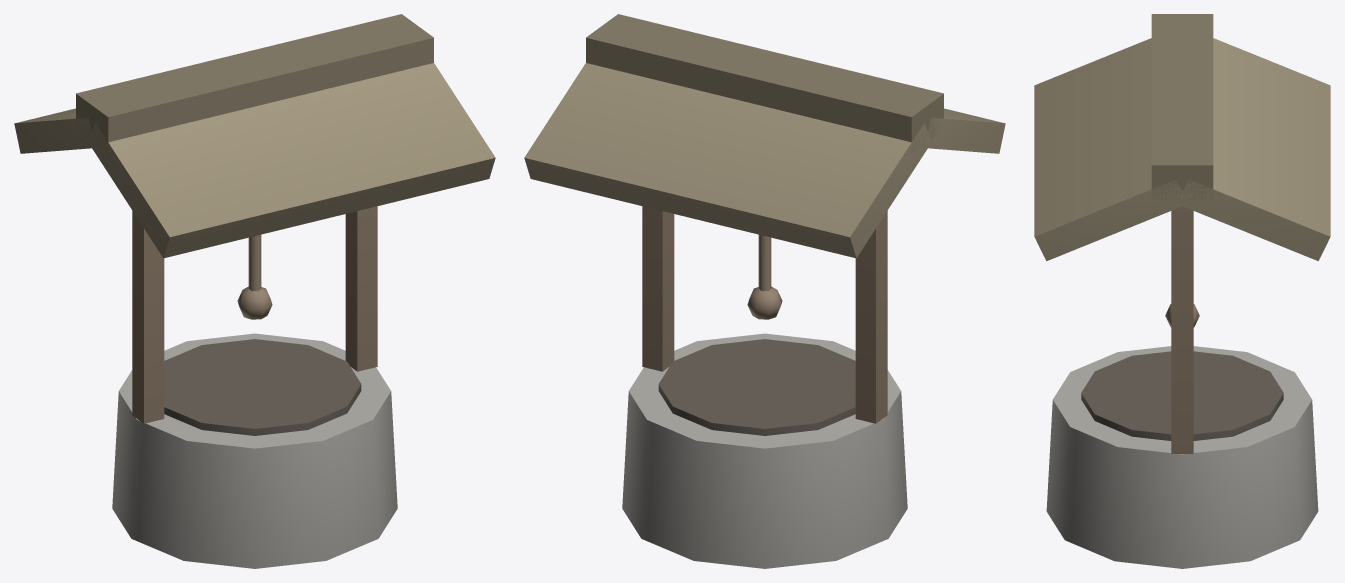
Rendered from well.glb.
3 renders of one model, left to right at view 1: azimuth 30°, elevation 25°; view 2: azimuth 150°, elevation 25°; view 3: azimuth 270°, elevation 25°, orthographic. The views are drawn at different scales.
Visible parts, largest first — view 1: well; view 2: well; view 3: well.
Part boxes in pixels (x1,y1,x2,y2): well: [14, 14, 495, 568]; well: [524, 14, 1005, 568]; well: [1034, 14, 1330, 568].
Bounding box in the file's own units: 2.9 × 3.77 × 2.4.
